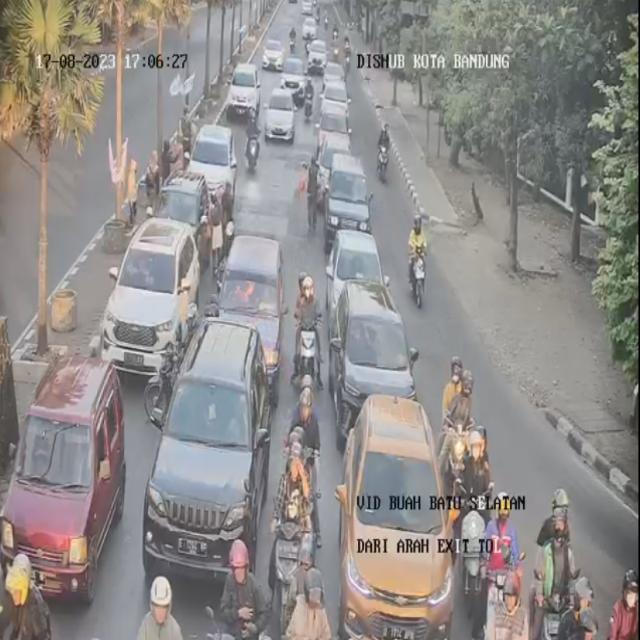cars: (149, 319, 275, 592), (7, 354, 129, 602), (342, 391, 458, 640), (107, 216, 199, 379), (328, 279, 413, 436), (210, 234, 288, 389), (330, 225, 392, 321), (160, 172, 217, 264), (322, 152, 376, 248), (190, 122, 238, 205), (319, 135, 355, 194), (265, 84, 295, 145), (322, 72, 350, 132), (234, 62, 264, 117), (319, 101, 351, 152), (279, 51, 304, 102), (307, 36, 328, 73), (263, 33, 283, 71), (301, 16, 318, 41)
motorcycle: (271, 438, 315, 634), (529, 486, 578, 640), (221, 536, 268, 638), (476, 488, 519, 595), (0, 550, 51, 640), (280, 374, 320, 480), (128, 576, 194, 640), (284, 568, 342, 640), (438, 356, 472, 474), (450, 434, 494, 522), (487, 556, 528, 640), (296, 272, 324, 390), (560, 565, 596, 640), (404, 212, 430, 305), (242, 108, 261, 172), (373, 119, 391, 179), (302, 77, 316, 124)
